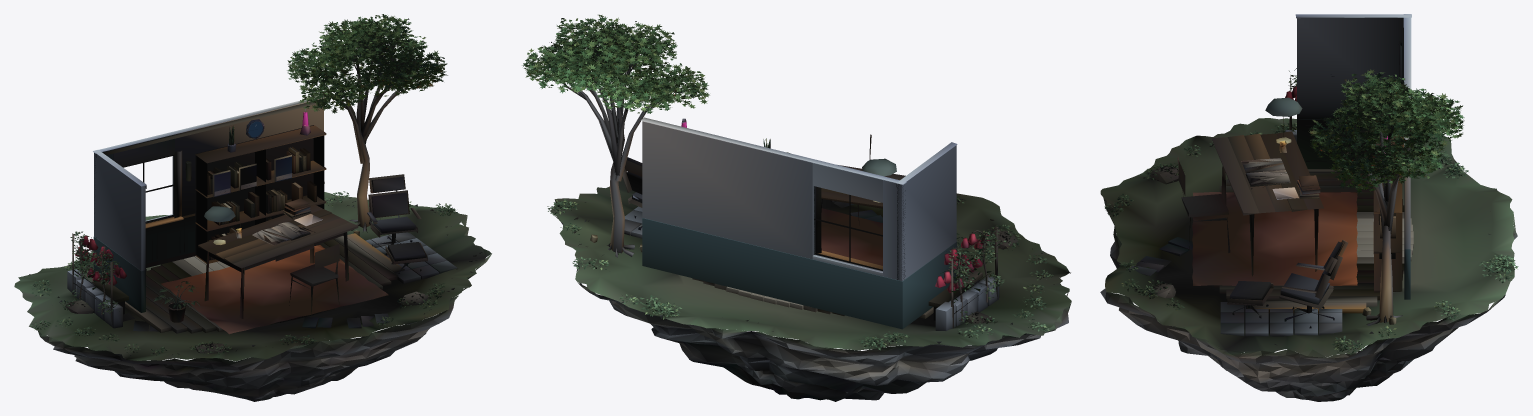
File: flight-writing-ec893ad6.glb
3 renders of one model, left to right at view 1: azimuth 30°, elevation 25°; view 2: azimuth 150°, elevation 25°; view 3: azimuth 270°, elevation 25°, orthographic. The views are drawn at different scales.
Visible parts, largest first — view 1: Writing island · flight.001; view 2: Writing island · flight.001; view 3: Writing island · flight.001.
Part boxes in pixels (<box>): Writing island · flight.001: <box>14,14,491,401</box>; Writing island · flight.001: <box>522,14,1071,401</box>; Writing island · flight.001: <box>1100,14,1518,401</box>.
Size of the model in its own units: 11.71 by 8.11 by 8.17.
